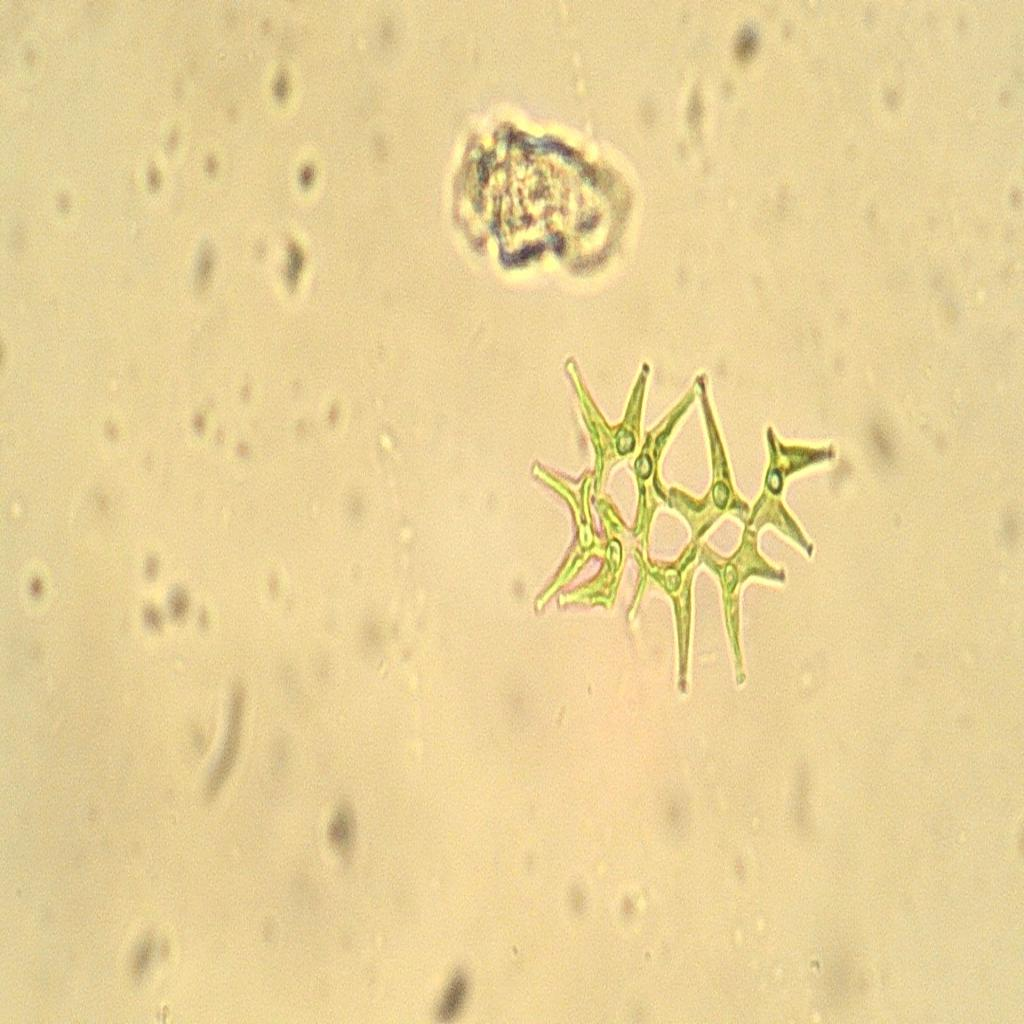Pediastrum_CFI: (502, 336, 849, 712)
